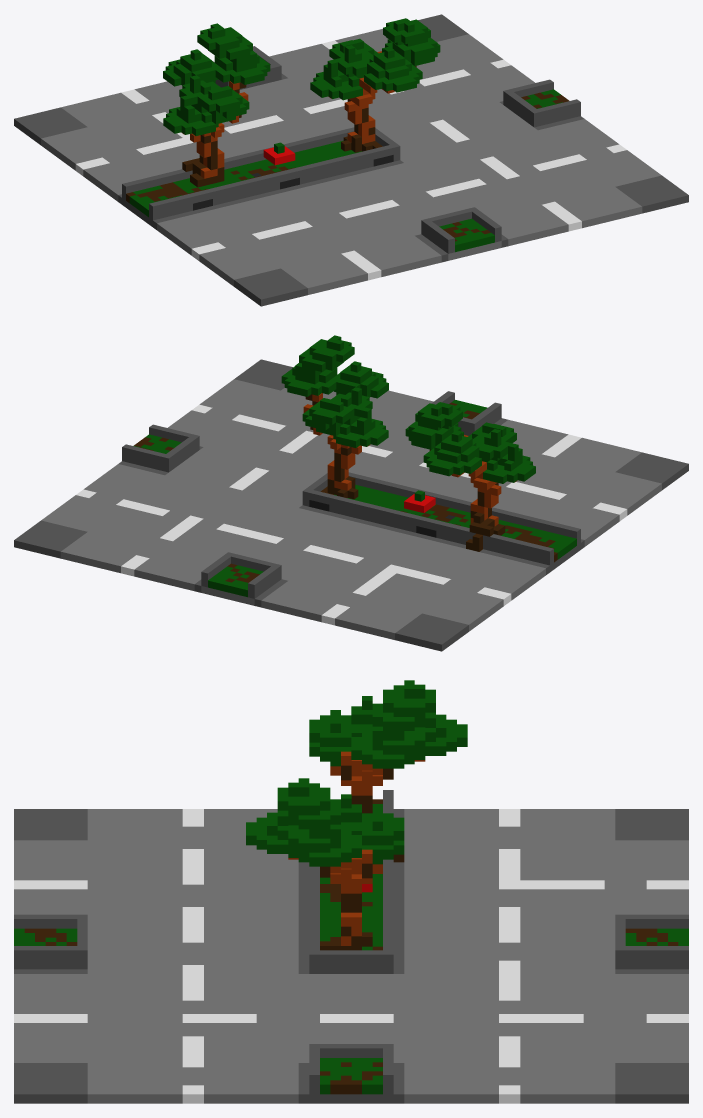
File: StreetKreuzungNormalWinWin.obj
3 renders of one model, top to bottom at view 1: azimuth 30°, elevation 25°; view 2: azimuth 150°, elevation 25°; view 3: azimuth 270°, elevation 25°, orthographic. The views are drawn at different scales.
Parts seen in each view (by area): view 1: StreetKreuzungNormalWinWin; view 2: StreetKreuzungNormalWinWin; view 3: StreetKreuzungNormalWinWin.
Part boxes in pixels (x1,y1,x2,y2): StreetKreuzungNormalWinWin: (14, 14, 688, 306); StreetKreuzungNormalWinWin: (14, 335, 688, 651); StreetKreuzungNormalWinWin: (14, 680, 688, 1103).
Bounding box in the file's own units: 64 × 21 × 64.
Materials: 1 (1 with a texture image).
